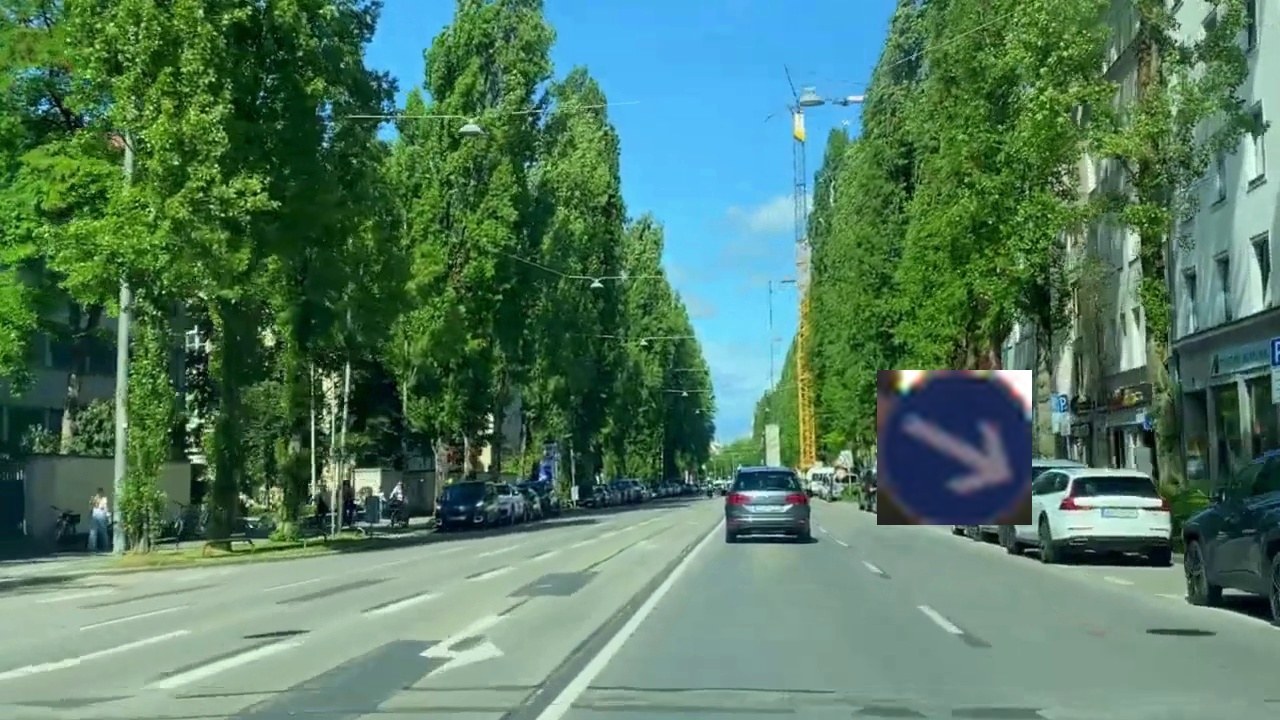Keep right: (877, 370, 1032, 525)
